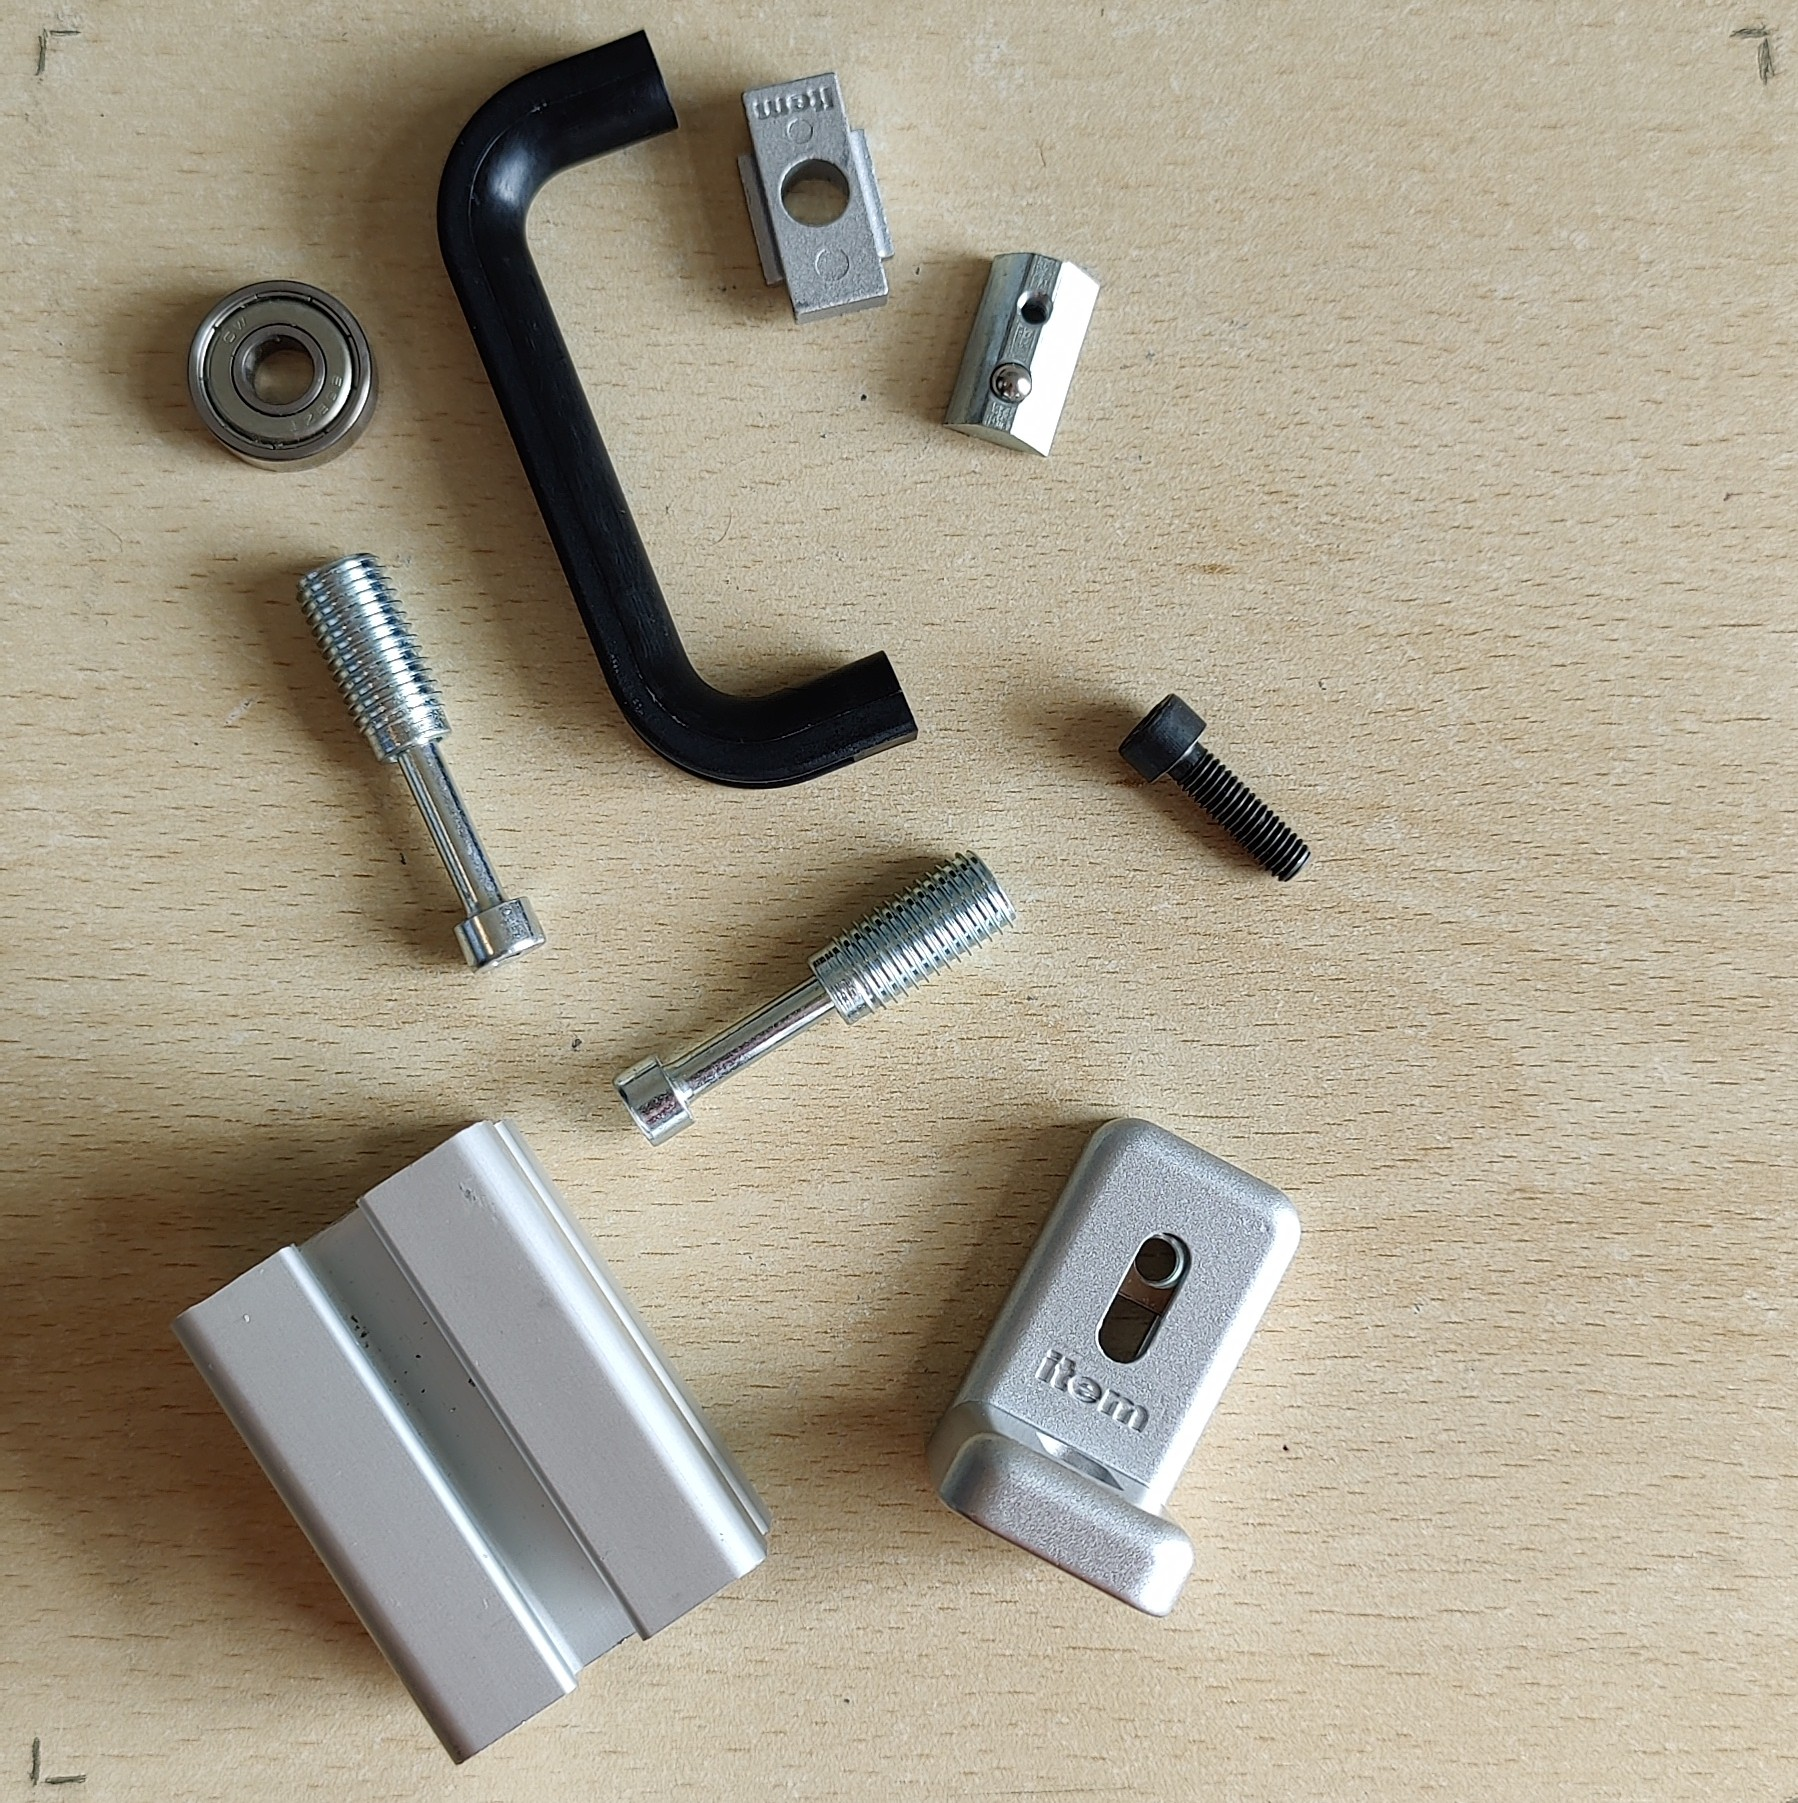Aluminium Extension: (176, 1120, 769, 1767)
Ball Bearing: (181, 278, 382, 473)
Multiwinkel: (924, 1115, 1304, 1622)
Pull Handle: (436, 26, 919, 790)
Shoulder Socket Head Cap Screw: (613, 851, 1021, 1153), (295, 548, 547, 978)
Socket Head Cap Screw: (1115, 692, 1311, 884)
T Nut Square: (729, 68, 899, 324)
T Spring Nut: (940, 249, 1102, 459)
